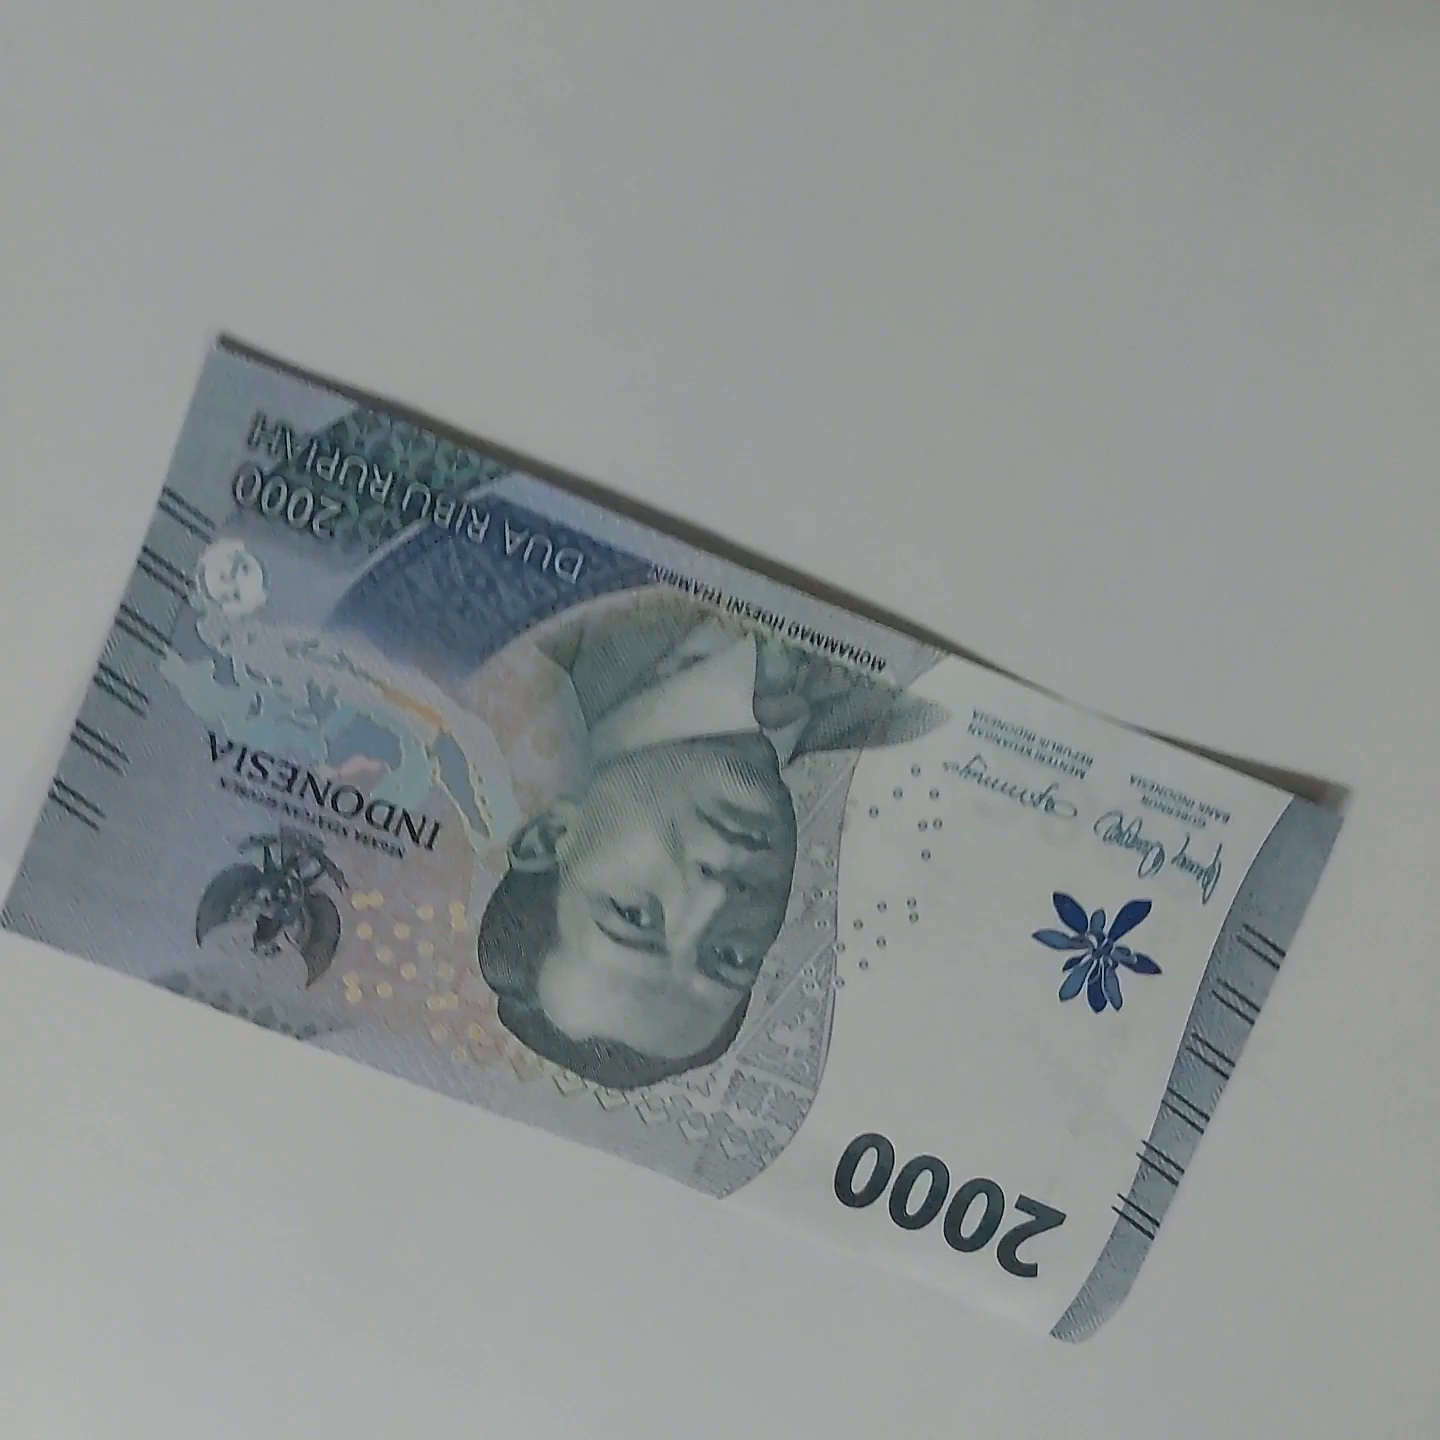2k: (8, 338, 1337, 1357)
